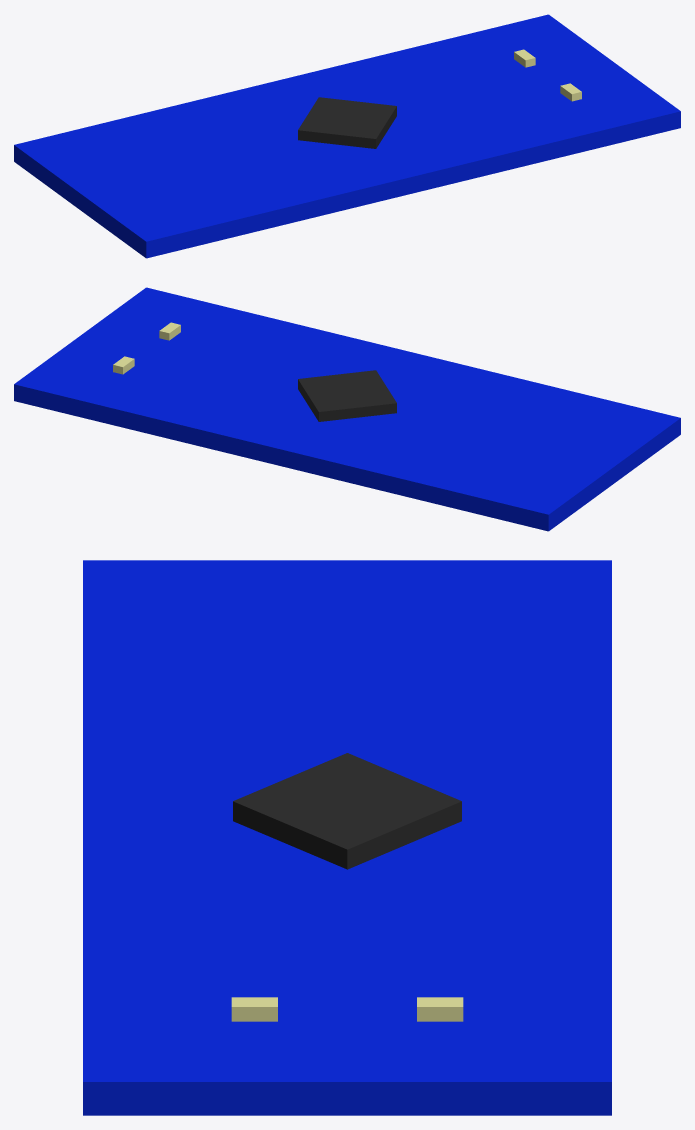
The model's file is STM32deco.fbx.
3 views of the same model, one above another, from view 1: azimuth 30°, elevation 25°; view 2: azimuth 150°, elevation 25°; view 3: azimuth 270°, elevation 25° (orthographic). The views are drawn at different scales.
Visible parts, largest first — view 1: Cube, Cube.003; view 2: Cube, Cube.003; view 3: Cube, Cube.003, Cube.001, Cube.002.
Part boxes in pixels (x1,y1,x2,y2): Cube: (14, 14, 680, 258); Cube.003: (298, 97, 396, 148); Cube: (14, 287, 680, 531); Cube.003: (298, 370, 396, 421); Cube: (83, 560, 611, 1115); Cube.003: (233, 753, 461, 869); Cube.001: (231, 997, 277, 1021); Cube.002: (417, 997, 463, 1021).
Size of the model in its own units: 5.33 by 0.255 by 2.29.
